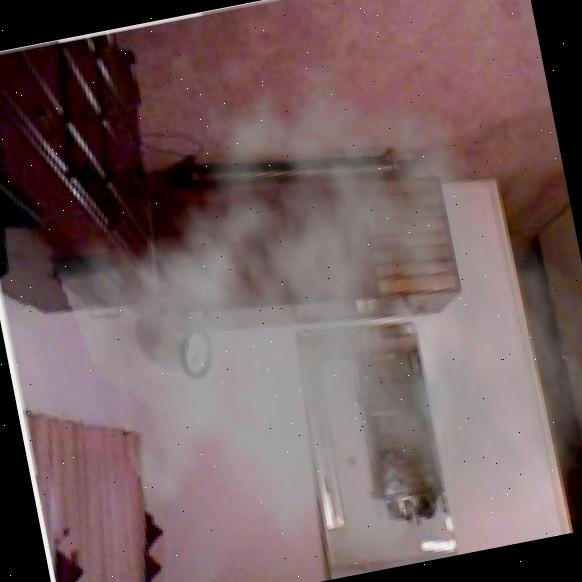smoke: (23, 15, 582, 582)
